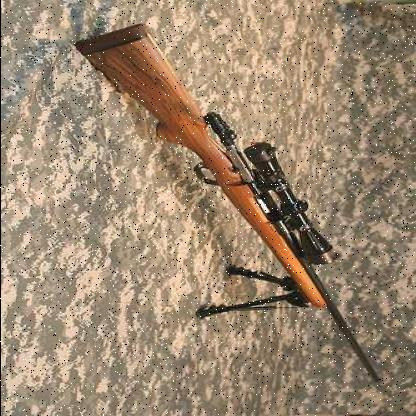rifle: (57, 22, 410, 393)
